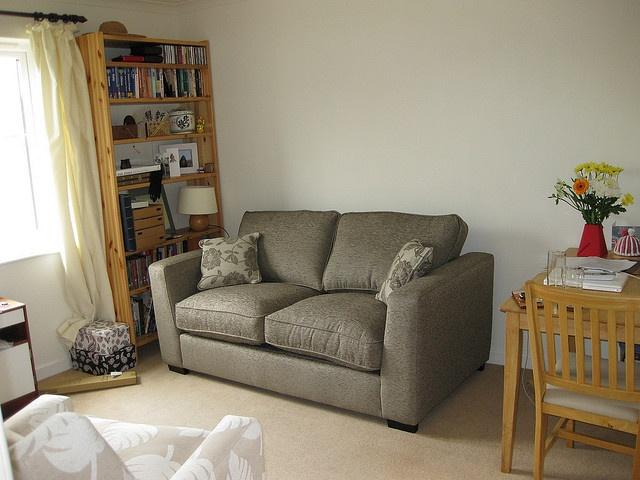Kursi: (525, 280, 639, 479)
Rak: (100, 29, 224, 348)
